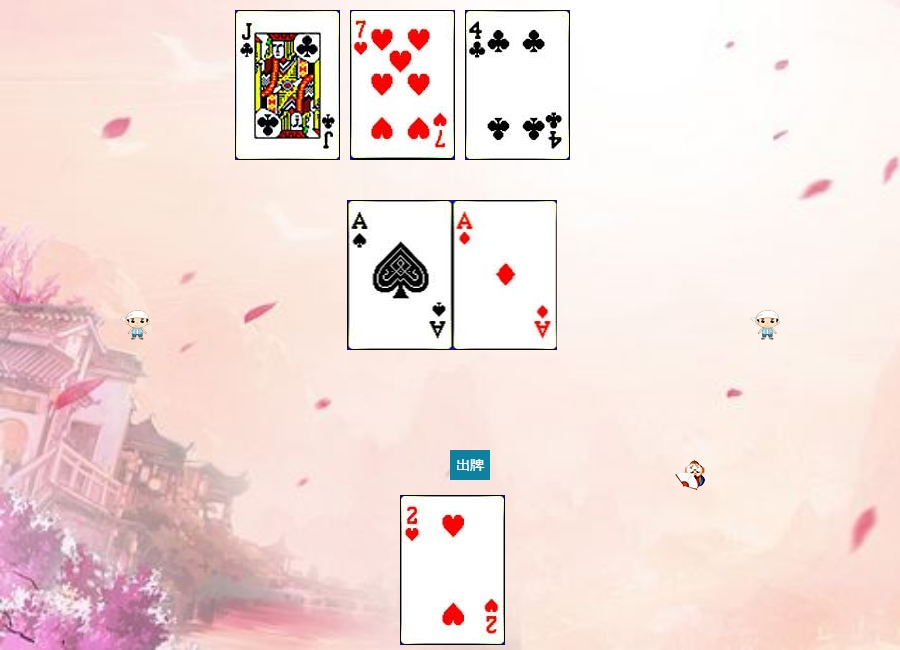11~2: (235, 10, 340, 160)
14~1: (453, 200, 558, 350)
14~4: (348, 200, 453, 350)
15~3: (400, 495, 505, 645)
4~2: (465, 10, 570, 160)
7~3: (350, 10, 455, 160)
